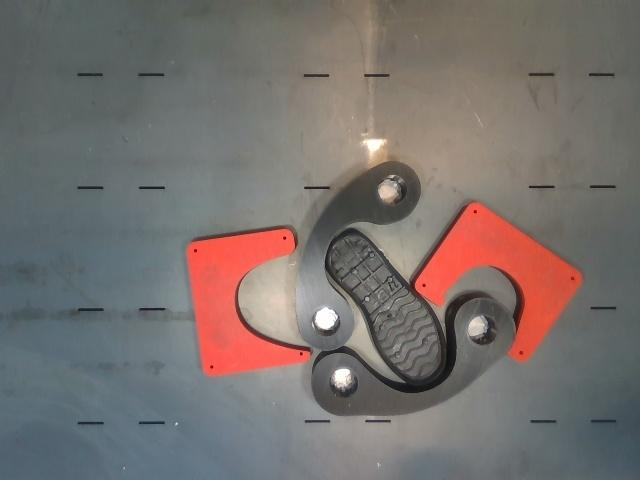shoes: (326, 234, 445, 385)
